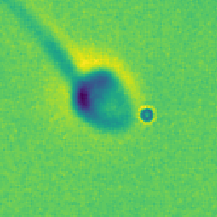normal: (1, 1, 93, 80)
